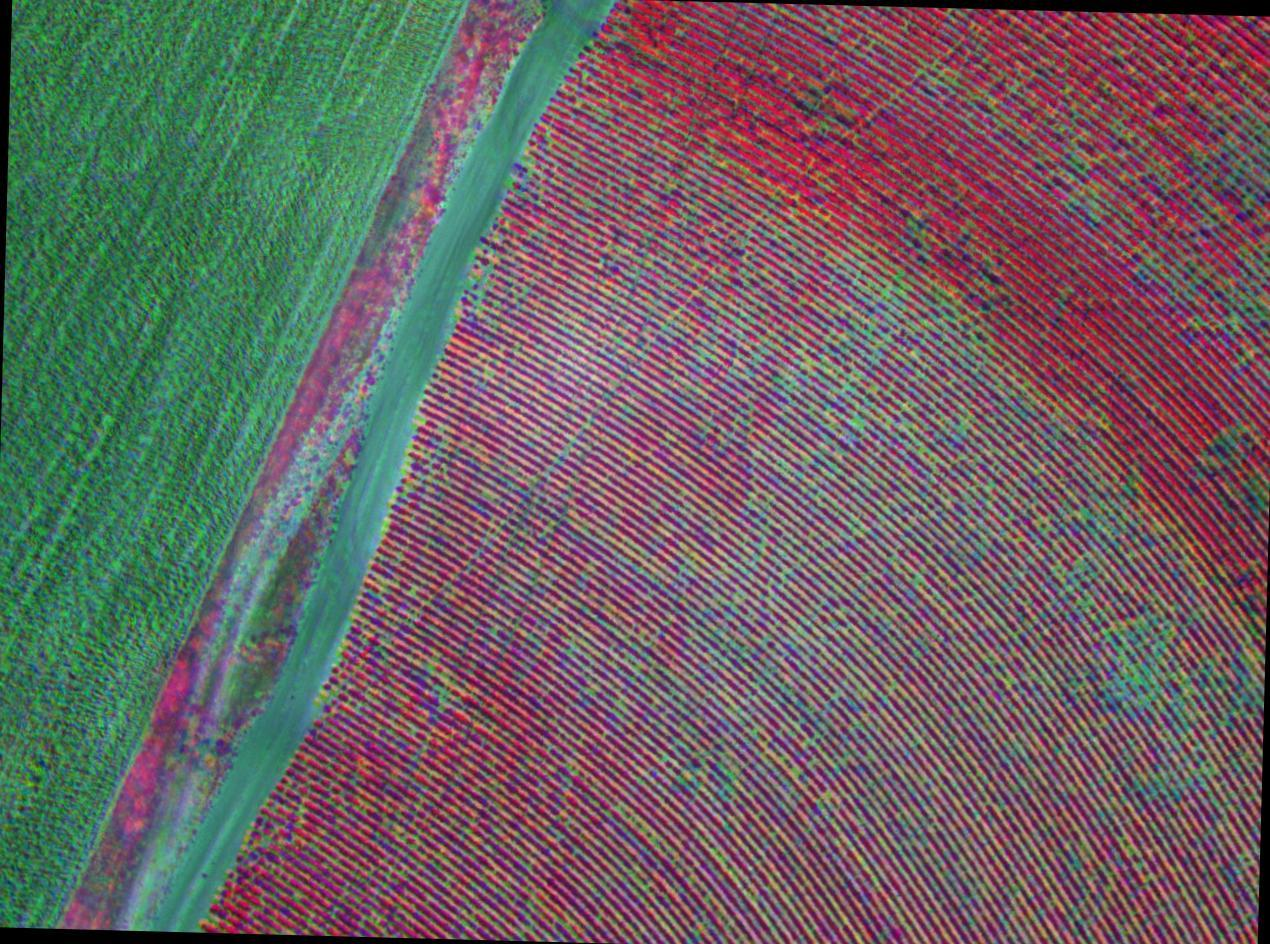dc: (1130, 677, 1146, 687), (1074, 562, 1086, 573), (682, 771, 693, 779)
